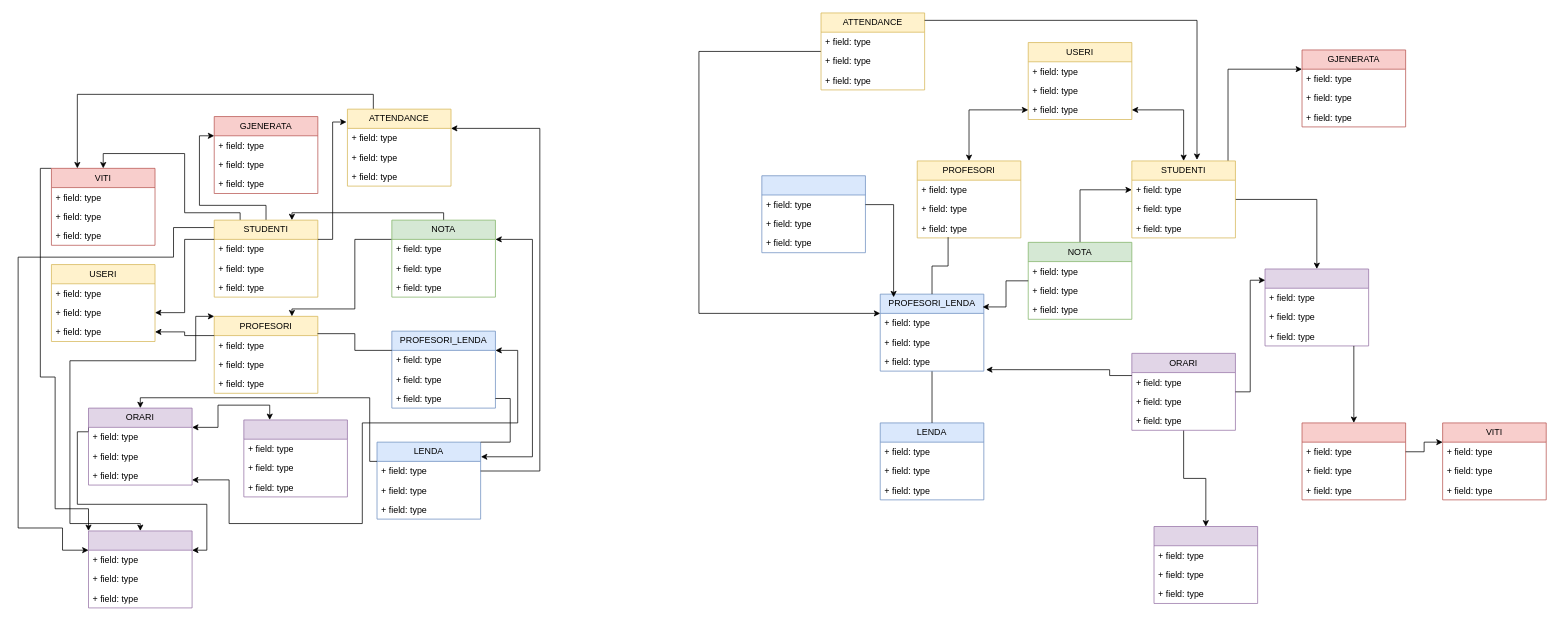
This 1559x623 diagram has some shape labels left out. Each missing label, with the box of its shape:
CLASROOM: (1153, 526, 1258, 603)
GRUPI: (1264, 268, 1369, 346)
GRUPI/PARALELJA: (88, 530, 192, 608)
KLASA/SALLA: (243, 419, 347, 497)
LIGJERATA: (761, 175, 865, 253)
SEMESTER: (1301, 422, 1406, 500)
